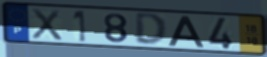1: (71, 10, 88, 43)
4: (207, 16, 236, 51)
8: (102, 12, 130, 44)
A: (167, 15, 206, 48)
D: (133, 12, 169, 47)
X: (30, 7, 65, 42)
